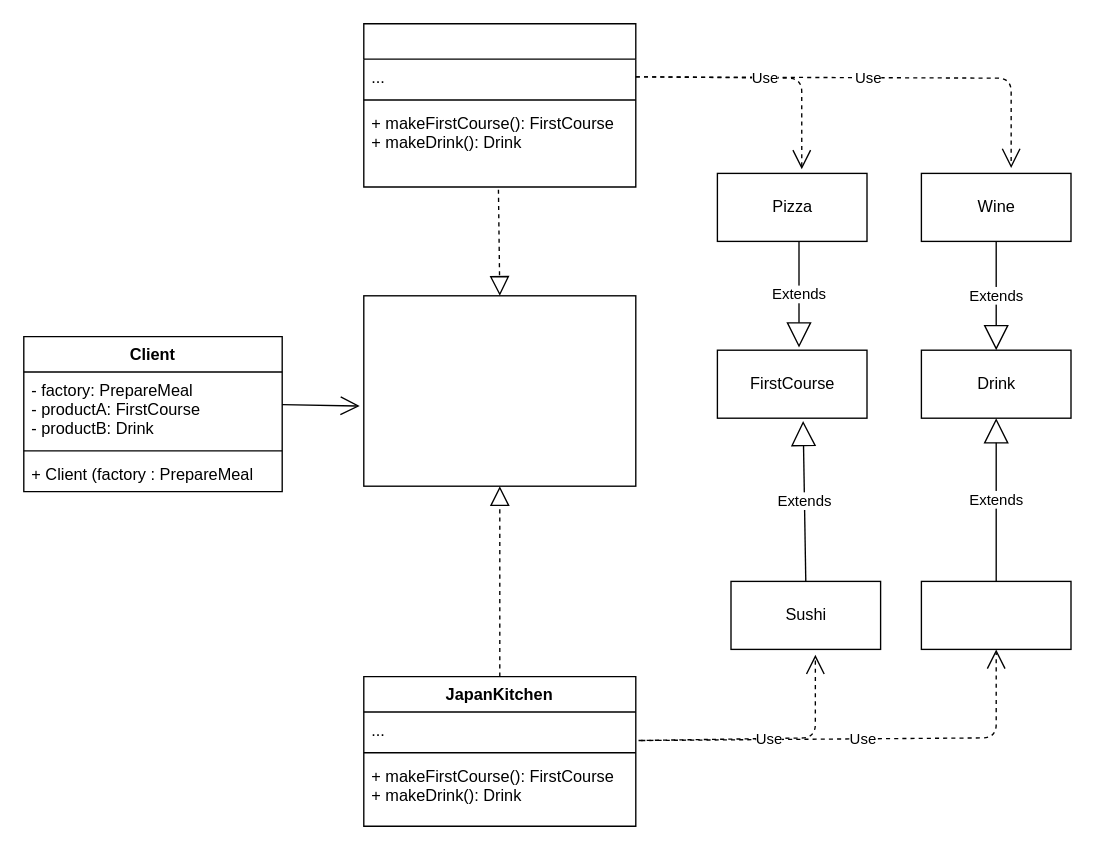
The diagram is 1095 pixels wide and 854 high, and some of its shapes have lost their labels. The box of each missing label's shape, as (x1, y1, x2, y2) in pixels:
<<Interface>> PrepareMeal + makeFirstCourse(): FirstCourse + makeDrink(): Drink: (362, 294, 636, 486)
ItalianKitchen: (362, 22, 636, 187)
Sake: (920, 580, 1071, 649)
